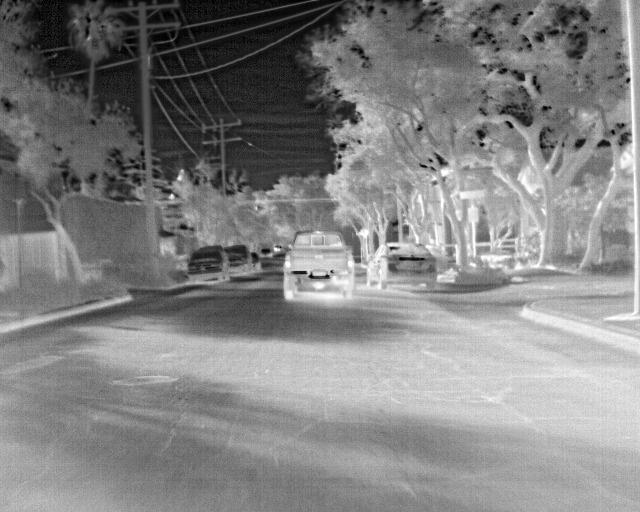car: (286, 228, 353, 303), (365, 239, 437, 291), (187, 244, 226, 279), (220, 244, 250, 277), (246, 250, 260, 273), (257, 243, 274, 258)
